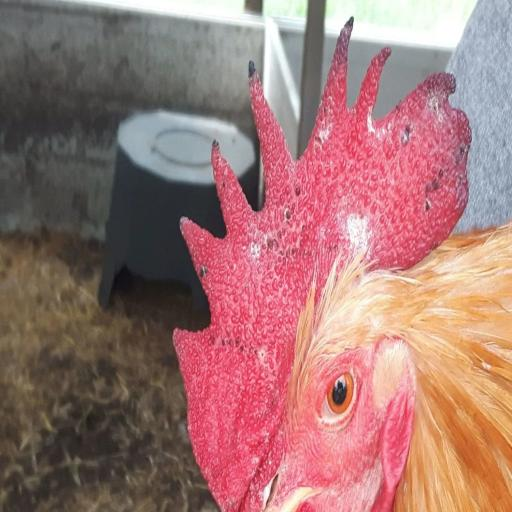disease: (421, 123, 470, 232), (258, 184, 310, 271), (243, 312, 283, 404), (327, 0, 367, 80), (334, 191, 374, 267), (208, 325, 252, 362), (396, 106, 422, 161), (236, 50, 262, 93), (195, 256, 219, 289)
